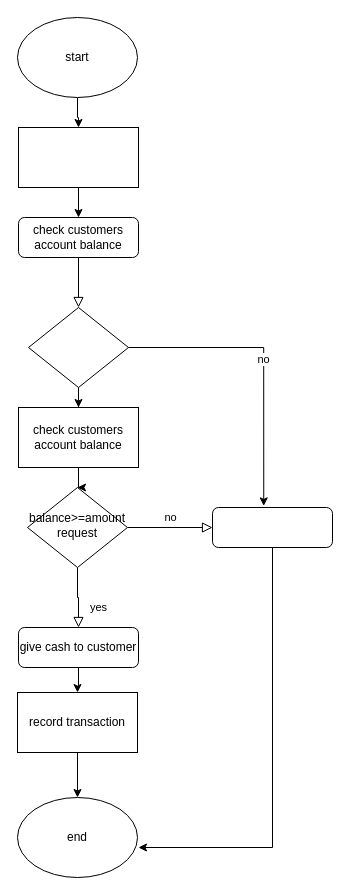
This 350x895 diagram has some shape labels left out. Here are the shapes that lost their labels. From the top down, the centre of each, then its label:
At (x=78, y=157): "customer makes withdraw requests".
At (x=78, y=347): "valid?".
At (x=272, y=527): "reject request".
